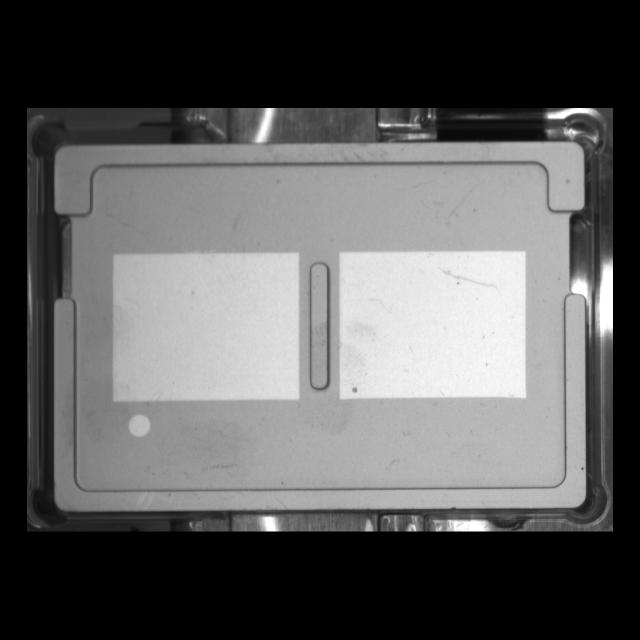door: (43, 127, 595, 228)
point: (119, 406, 158, 446)
